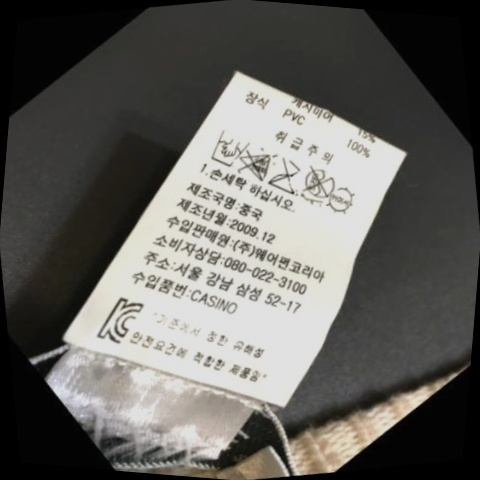DN_dry_clean: (300, 161, 343, 207)
DN_iron: (266, 154, 311, 202)
dry_flat: (323, 184, 361, 218)
hand_wash: (206, 127, 254, 170)
non_chlorine_bleach: (238, 142, 282, 186)
